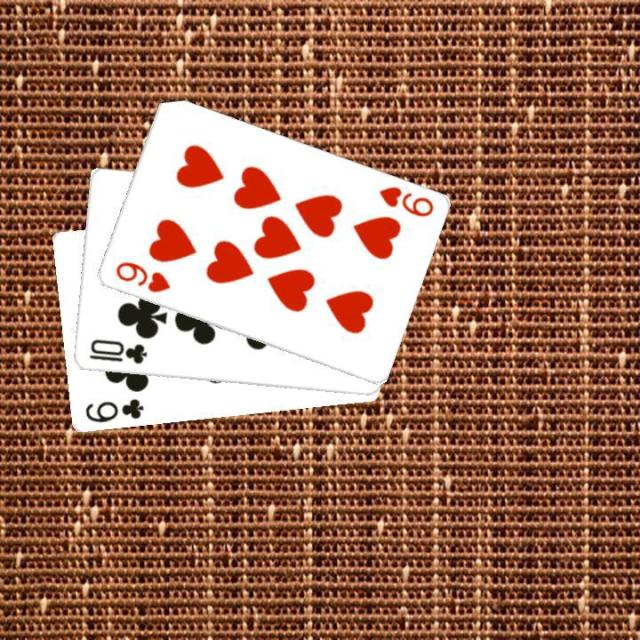10C: (84, 336, 148, 366)
6C: (81, 395, 145, 425)
9H: (374, 182, 436, 220), (111, 258, 172, 295)
